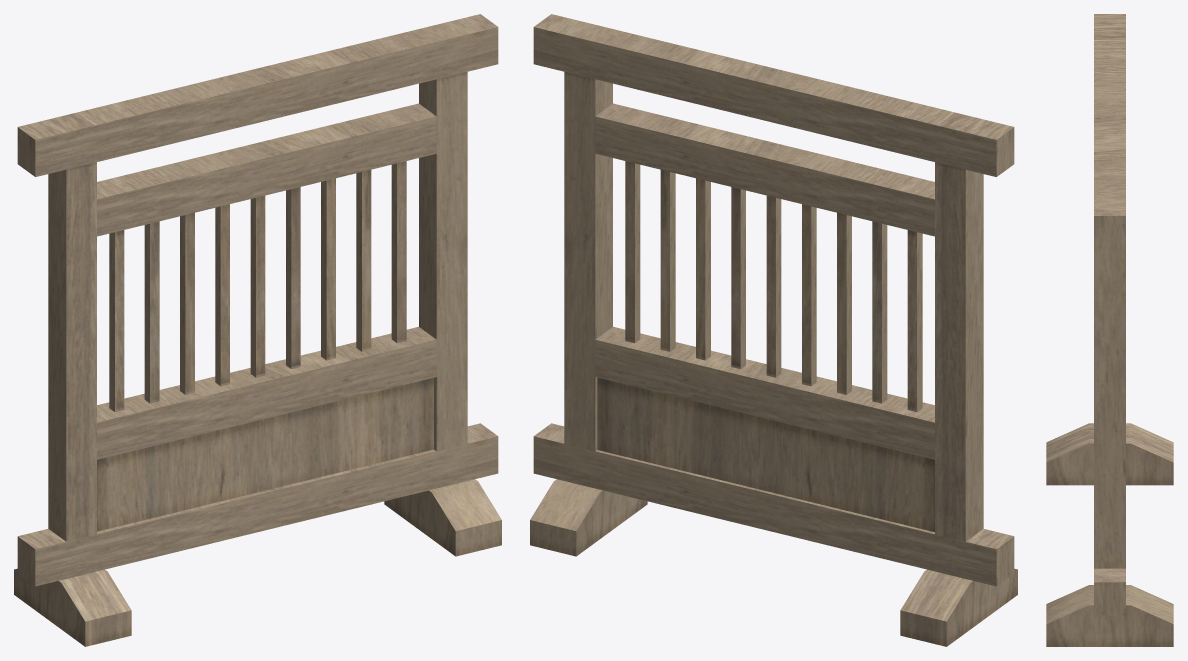
File: Standwall03.fbx
3 renders of one model, left to right at view 1: azimuth 30°, elevation 25°; view 2: azimuth 150°, elevation 25°; view 3: azimuth 270°, elevation 25°, orthographic. The views are drawn at different scales.
Visible parts, largest first — view 1: Standwall03; view 2: Standwall03; view 3: Standwall03.
Boxes of the visible parts, box(x1,y1,x2,y2) form: Standwall03: box(14, 14, 501, 646); Standwall03: box(530, 14, 1017, 646); Standwall03: box(1046, 14, 1173, 646).
Size of the model in its own units: 118 by 120 by 31.49.
